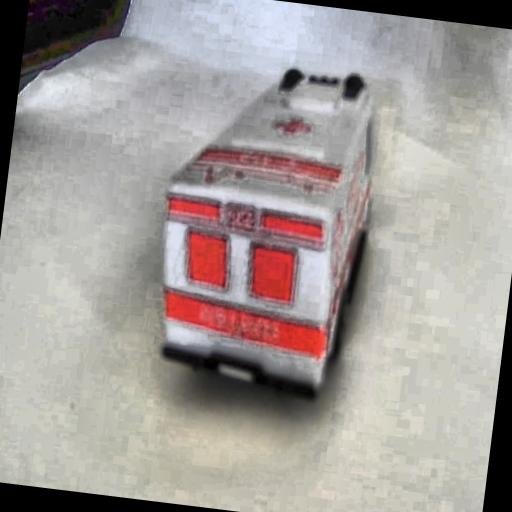ambulance: (143, 52, 388, 404)
